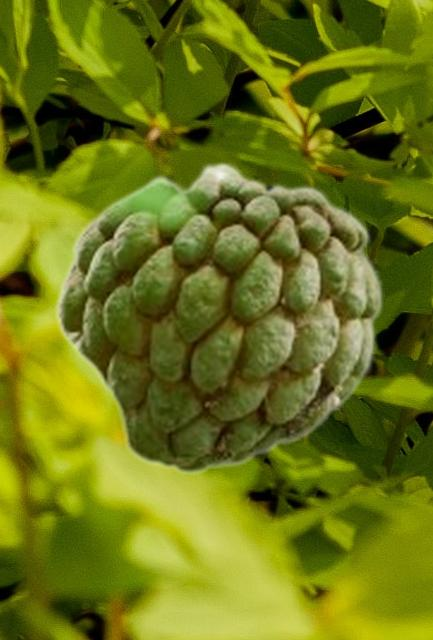atis: (52, 160, 383, 474)
